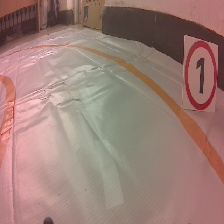limit: (182, 34, 220, 116)
